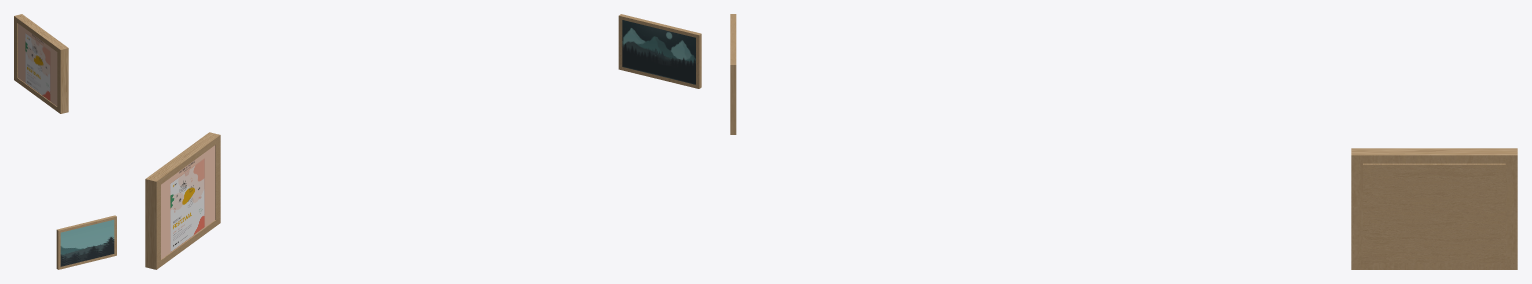
The picture shows the model from 3 angles, left to right: view 1: azimuth 30°, elevation 25°; view 2: azimuth 150°, elevation 25°; view 3: azimuth 270°, elevation 25°; orthographic projection. The views are drawn at different scales.
Parts seen in each view (by area): view 1: 포스터, 액자; view 2: 포스터, 액자; view 3: 포스터, 액자.
Boxes of the visible parts, x1,y1,x2,y2 form: 포스터: (14,14,68,113); 액자: (56,215,116,269); 포스터: (145,132,220,269); 액자: (618,14,701,88); 포스터: (1351,148,1517,269); 액자: (730,14,736,134).
Bounding box in the file's own units: 709 × 234 × 1460.
Materials: 4 (4 with a texture image).
